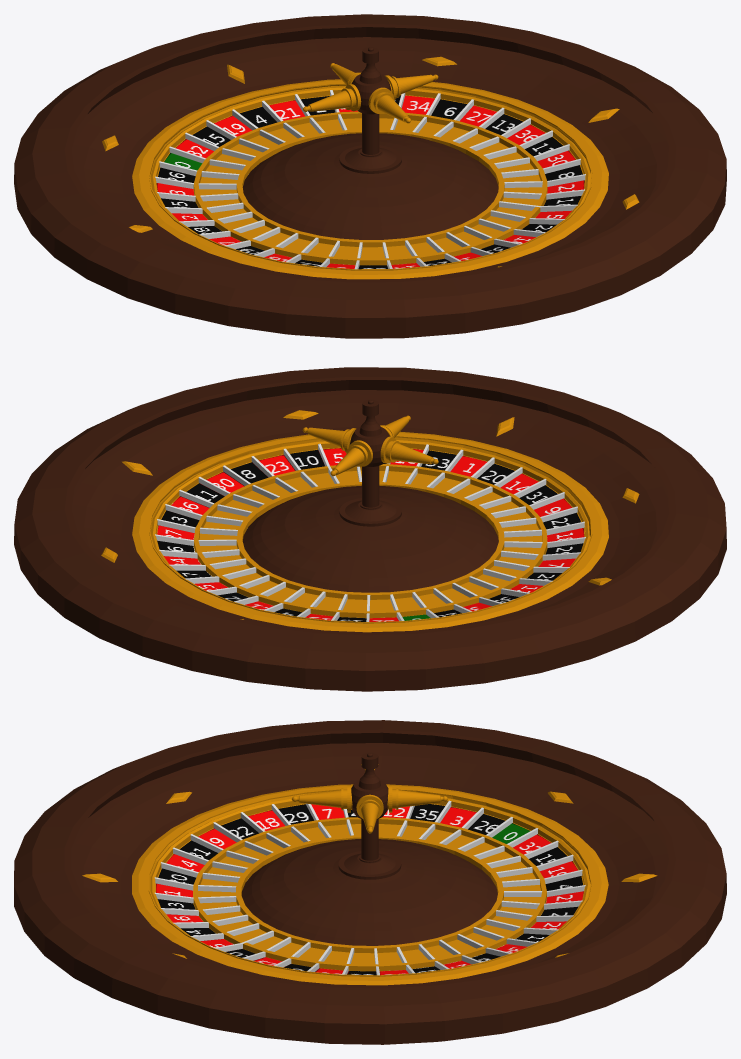
Rendered from Roulette_Table.glb.
The picture shows the model from 3 angles, top to bottom: view 1: azimuth 30°, elevation 25°; view 2: azimuth 150°, elevation 25°; view 3: azimuth 270°, elevation 25°; orthographic projection.
Parts seen in each view (by area): view 1: OuterCircle, InnerCircle, InnerPillar, Seperator, numbers, Circle.004, Circle.001, Circle.003; view 2: OuterCircle, InnerCircle, InnerPillar, Seperator, numbers, Circle.004, Circle.002, Circle.003; view 3: OuterCircle, InnerCircle, InnerPillar, Seperator, numbers, Circle.001, Circle.002, Circle.003.
Part boxes in pixels (x1=…): OuterCircle: x1=14, y1=14, x2=726, y2=338; InnerCircle: x1=132, y1=79, x2=608, y2=279; InnerPillar: x1=242, y1=47, x2=498, y2=239; Seperator: x1=155, y1=90, x2=585, y2=269; numbers: x1=156, y1=95, x2=584, y2=269; Circle.004: x1=303, y1=84, x2=361, y2=111; Circle.001: x1=368, y1=87, x2=411, y2=123; Circle.003: x1=385, y1=74, x2=438, y2=100; OuterCircle: x1=14, y1=367, x2=726, y2=691; InnerCircle: x1=132, y1=431, x2=608, y2=632; InnerPillar: x1=242, y1=399, x2=498, y2=592; Seperator: x1=155, y1=443, x2=585, y2=621; numbers: x1=157, y1=448, x2=584, y2=621; Circle.004: x1=380, y1=436, x2=438, y2=464; Circle.002: x1=330, y1=440, x2=372, y2=476; Circle.003: x1=302, y1=427, x2=356, y2=453; OuterCircle: x1=14, y1=720, x2=726, y2=1044; InnerCircle: x1=132, y1=784, x2=608, y2=985; InnerPillar: x1=241, y1=752, x2=497, y2=945; Seperator: x1=154, y1=800, x2=585, y2=975; numbers: x1=156, y1=804, x2=583, y2=975; Circle.001: x1=291, y1=785, x2=352, y2=812; Circle.002: x1=387, y1=785, x2=447, y2=812; Circle.003: x1=356, y1=794, x2=383, y2=833.
Size of the model in its own units: 5.55 by 1.35 by 5.55.
3 materials, 1 textured.
